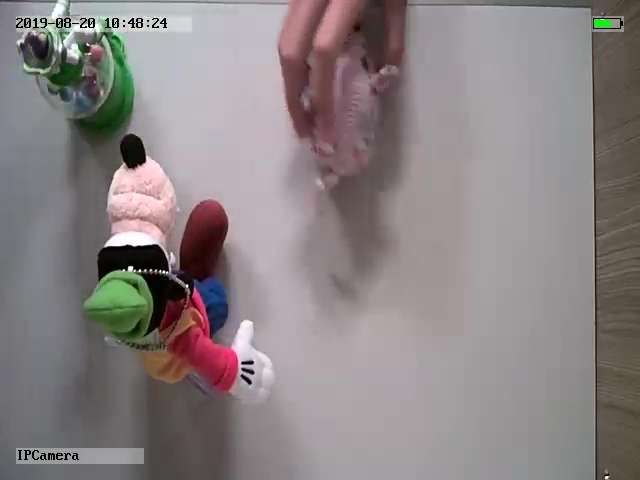buzz: (15, 1, 138, 129)
goofy: (82, 132, 278, 403)
